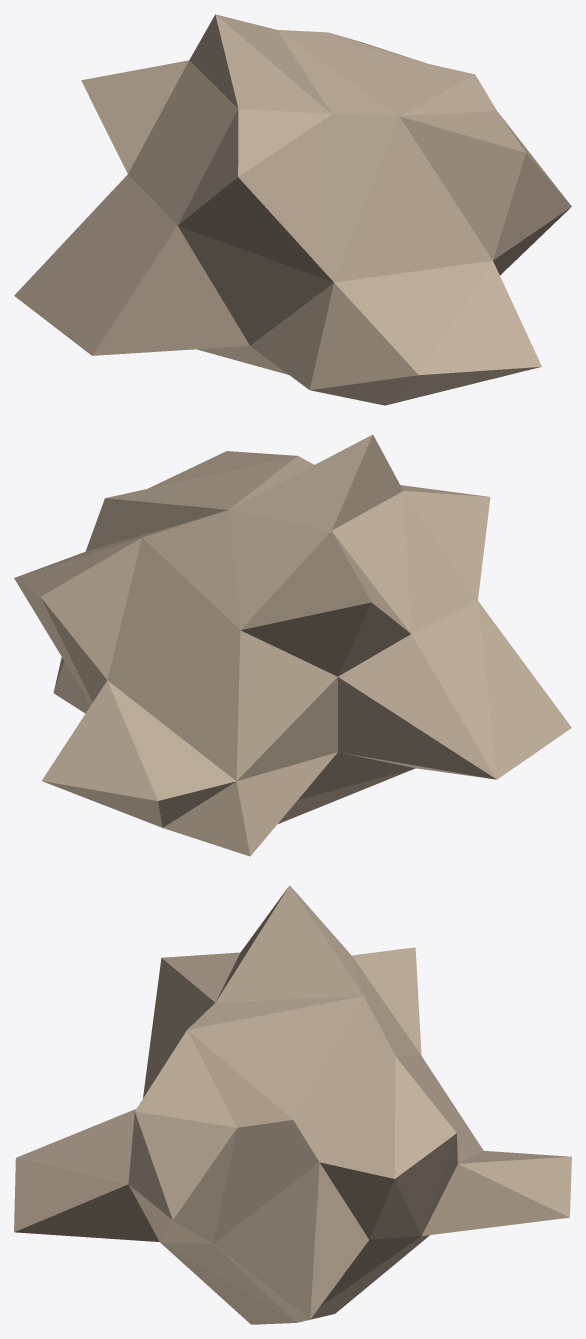
3 views of the same model, one above another, from view 1: azimuth 30°, elevation 25°; view 2: azimuth 150°, elevation 25°; view 3: azimuth 270°, elevation 25° (orthographic). The views are drawn at different scales.
Parts seen in each view (by area): view 1: part0; view 2: part0; view 3: part0.
Boxes of the visible parts, left/top/right/bottom form: part0: left=14, top=14, right=571, bottom=405; part0: left=14, top=434, right=571, bottom=856; part0: left=14, top=885, right=571, bottom=1324.
Size of the model in its own units: 4.47 by 3.76 by 5.01.
